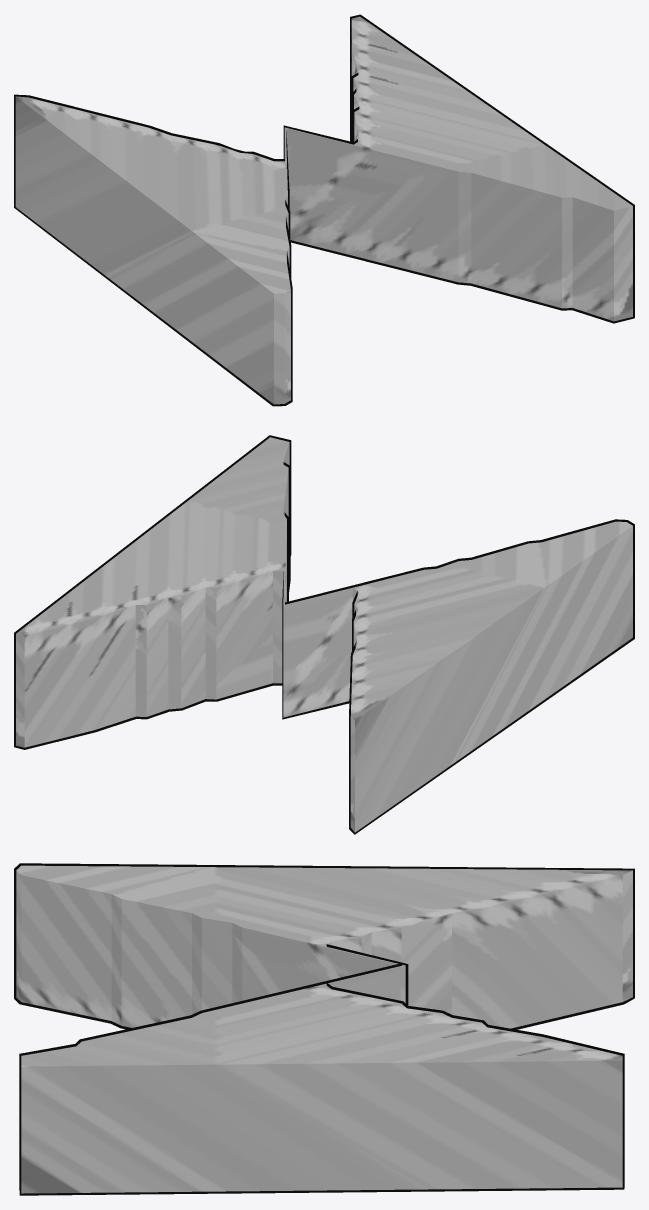
Rendered from Building_HoldingPlatform_Things_Building_HoldingPlatform_HoldingPlatformChains_Tethered.glb.
3 renders of one model, top to bottom at view 1: azimuth 30°, elevation 25°; view 2: azimuth 150°, elevation 25°; view 3: azimuth 270°, elevation 25°, orthographic. The views are drawn at different scales.
Visible parts, largest first — view 1: Body, Outline; view 2: Body, Outline; view 3: Body, Outline.
Boxes of the visible parts, x1,y1,x2,y2 form: Body: (15,16,632,404); Outline: (14,14,634,406); Body: (16,437,632,832); Outline: (14,435,634,834); Body: (16,865,632,1193); Outline: (14,863,634,1195).
Bounding box in the file's own units: 1.33 × 0.404 × 1.72.
Materials: 2 (1 with a texture image).
